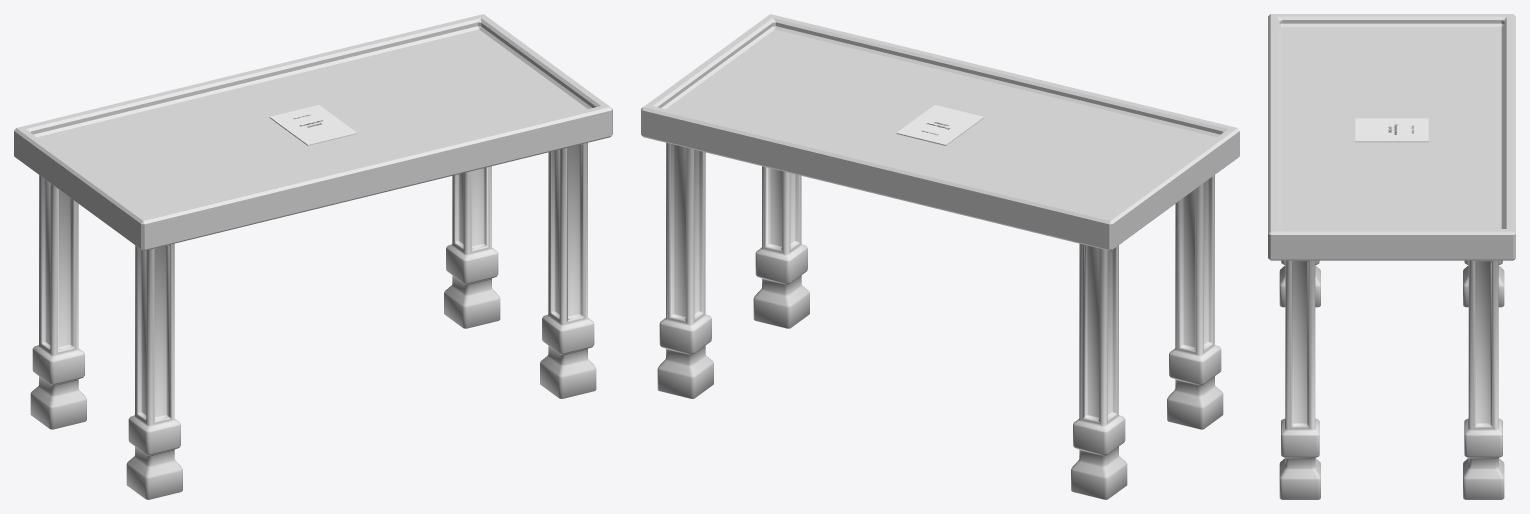
Rendered from ContractTable.fbx.
The picture shows the model from 3 angles, left to right: view 1: azimuth 30°, elevation 25°; view 2: azimuth 150°, elevation 25°; view 3: azimuth 270°, elevation 25°; orthographic projection. The views are drawn at different scales.
Parts seen in each view (by area): view 1: ContractTable, TableLegs, Contract; view 2: ContractTable, TableLegs, Contract; view 3: ContractTable, TableLegs, Contract.
Boxes of the visible parts, x1,y1,x2,y2 form: ContractTable: [14, 14, 612, 250]; TableLegs: [30, 143, 596, 499]; Contract: [269, 105, 357, 145]; ContractTable: [641, 14, 1239, 250]; TableLegs: [657, 143, 1223, 499]; Contract: [896, 105, 984, 145]; ContractTable: [1268, 14, 1515, 260]; TableLegs: [1279, 260, 1504, 499]; Contract: [1355, 118, 1428, 142].
Size of the model in its own units: 2.1 by 1.21 by 1.
